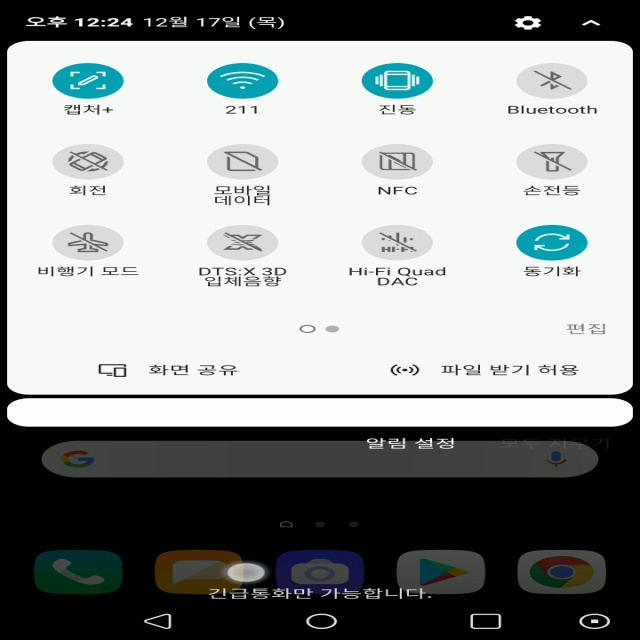Cursor: (224, 562, 268, 584)
